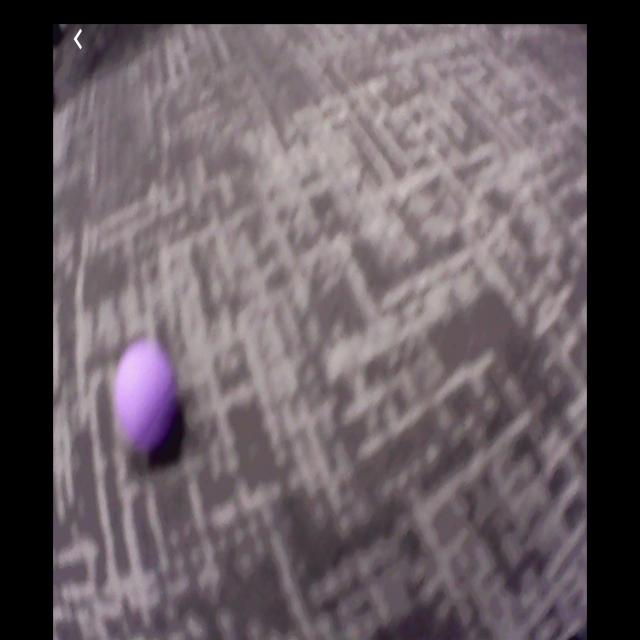ball: (115, 340, 179, 450)
